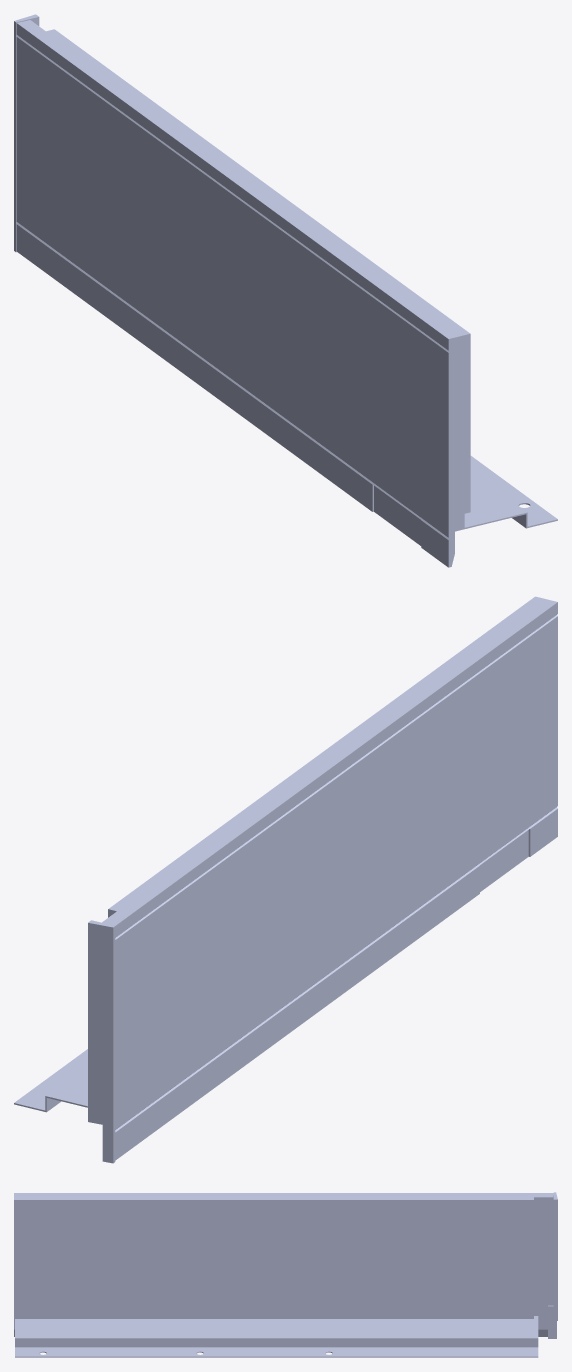
File: lg-kava-K450-p.glb
3 views of the same model, one above another, from view 1: azimuth 30°, elevation 25°; view 2: azimuth 150°, elevation 25°; view 3: azimuth 270°, elevation 25° (orthographic). The views are drawn at different scales.
Parts seen in each view (by area): view 1: 42116666; view 2: 42116666; view 3: 42116666.
Part boxes in pixels (x1,y1,x2,y2): 42116666: [14, 14, 557, 567]; 42116666: [14, 596, 557, 1163]; 42116666: [14, 1192, 557, 1357].
Size of the model in its own units: 0.0653 by 0.1292 by 0.4435.
